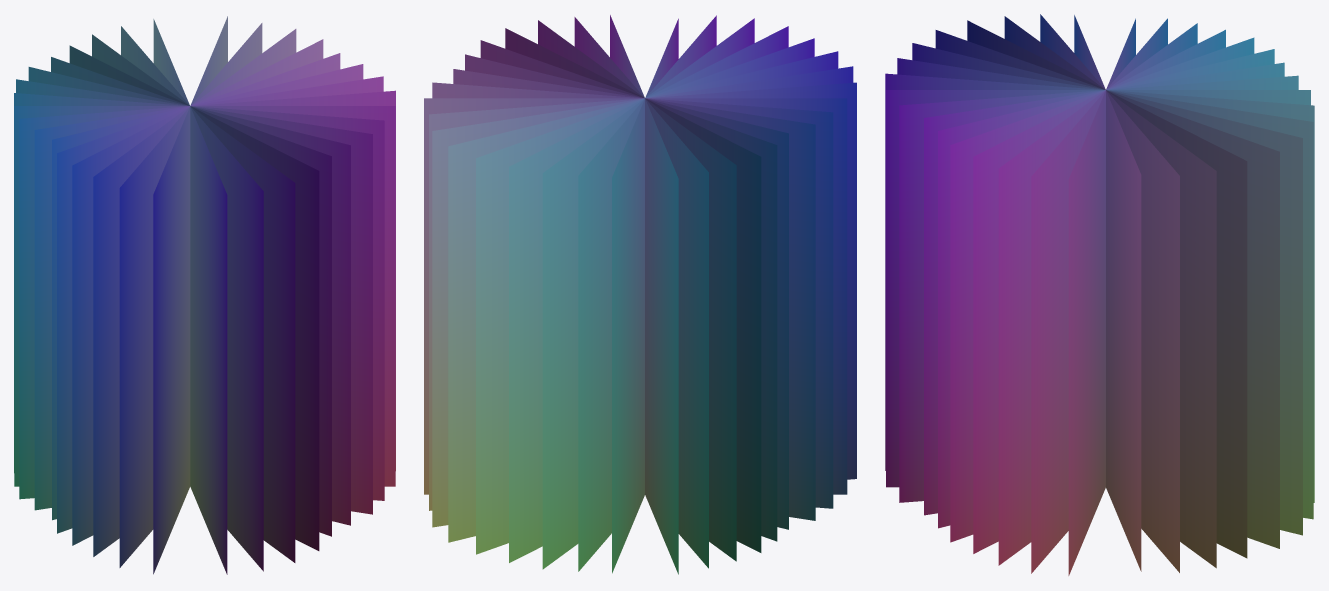
The model's file is MainTree.fbx.
3 renders of one model, left to right at view 1: azimuth 30°, elevation 25°; view 2: azimuth 150°, elevation 25°; view 3: azimuth 270°, elevation 25°, orthographic. The views are drawn at different scales.
Parts seen in each view (by area): view 1: MainTree_Impostor_36; view 2: MainTree_Impostor_36; view 3: MainTree_Impostor_36.
Boxes of the visible parts, x1,y1,x2,y2 form: MainTree_Impostor_36: (14, 16, 395, 574); MainTree_Impostor_36: (424, 15, 856, 574); MainTree_Impostor_36: (885, 14, 1314, 575).
Size of the model in its own units: 1441 by 1613 by 1580.
